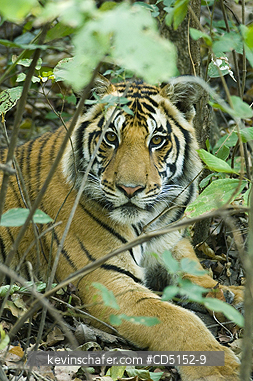Tigre: (15, 72, 214, 313)
